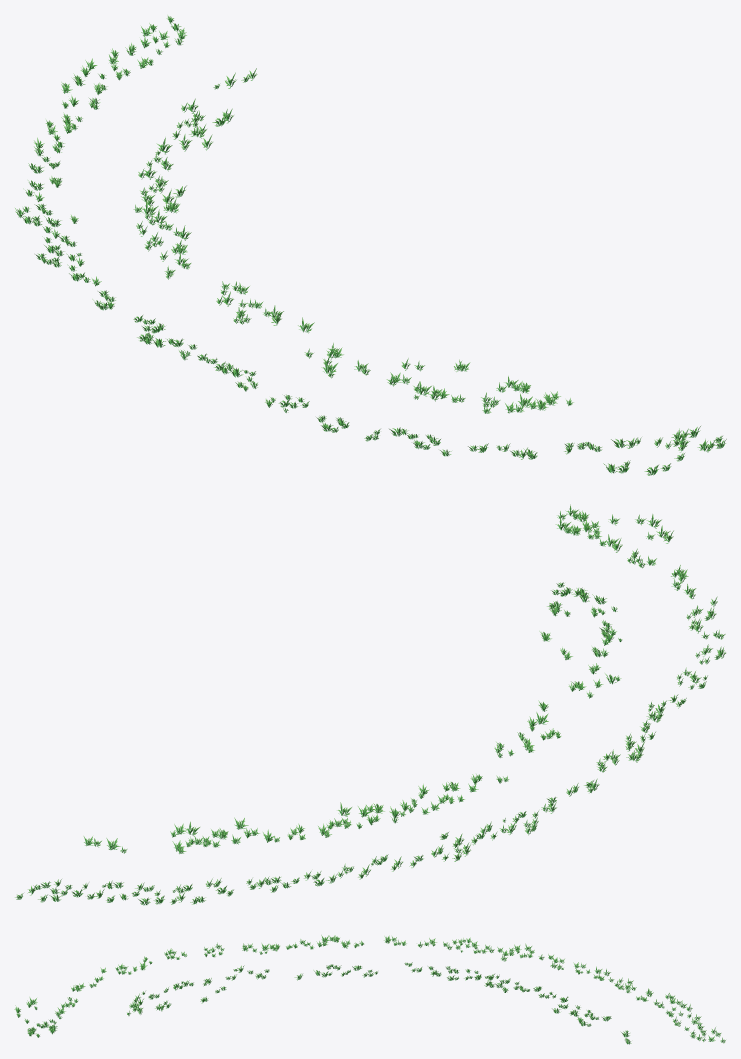
Rendered from Area_13_35.fbx.
The picture shows the model from 3 angles, top to bottom: view 1: azimuth 30°, elevation 25°; view 2: azimuth 150°, elevation 25°; view 3: azimuth 270°, elevation 25°; orthographic projection. The views are drawn at different scales.
Visible parts, largest first — view 1: Area_13_35; view 2: Area_13_35; view 3: Area_13_35.
Boxes of the visible parts, box(x1,y1,x2,y2) form: Area_13_35: box(15, 15, 726, 475); Area_13_35: box(15, 504, 725, 905); Area_13_35: box(14, 935, 725, 1044).
Bounding box in the file's own units: 3029 × 107 × 8568.
